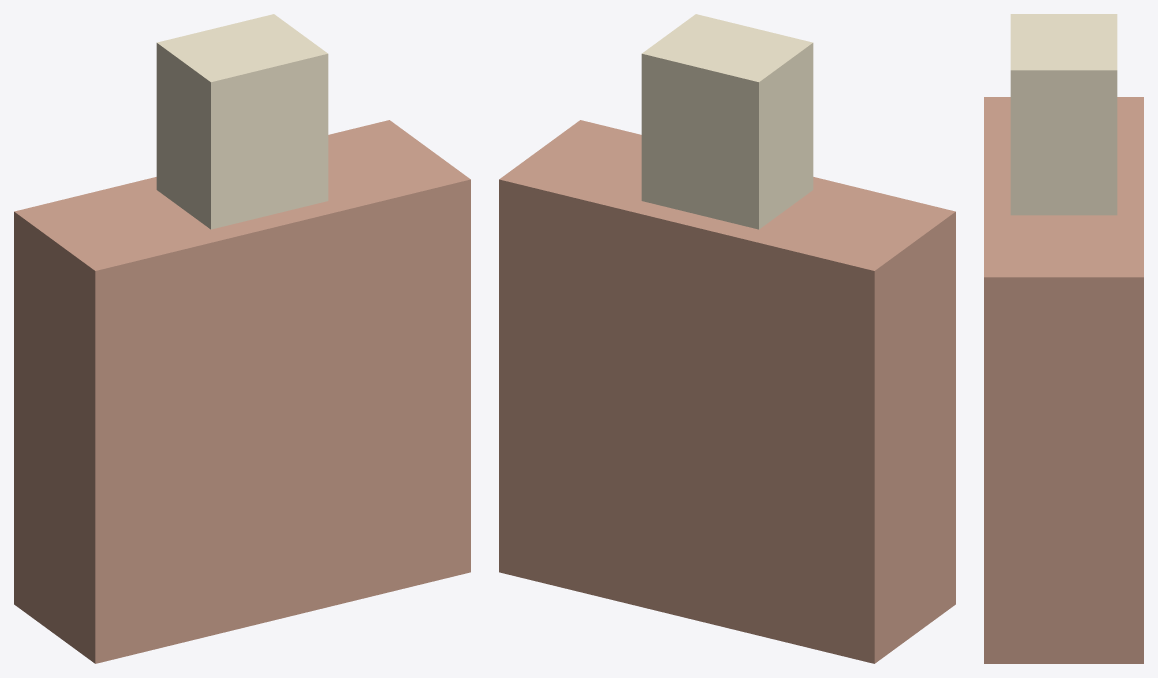
The model's file is attack.gltf.
The picture shows the model from 3 angles, left to right: view 1: azimuth 30°, elevation 25°; view 2: azimuth 150°, elevation 25°; view 3: azimuth 270°, elevation 25°; orthographic projection.
Size of the model in its own units: 0.8 by 1.1 by 0.3.
